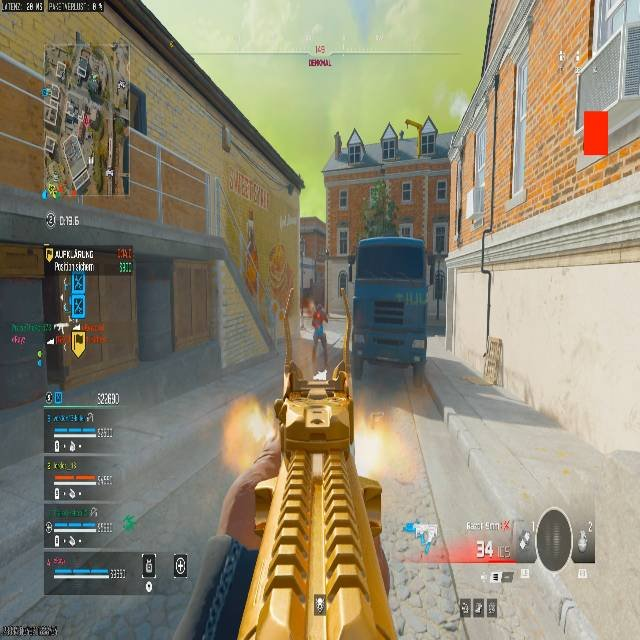player: (308, 299, 330, 362), (416, 118, 441, 159)
